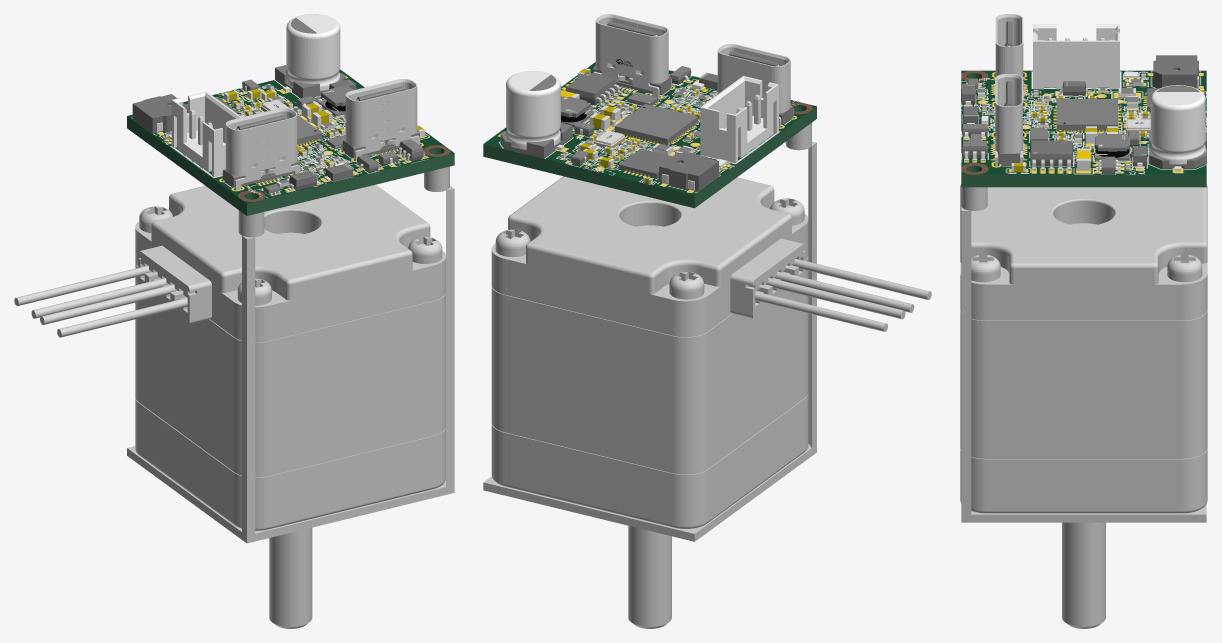
Rendered from development-assembly.glb.
3 views of the same model, side by side, from view 1: azimuth 30°, elevation 25°; view 2: azimuth 150°, elevation 25°; view 3: azimuth 270°, elevation 25° (orthographic). The views are drawn at different scales.
Parts seen in each view (by area): view 1: OEM_11HS12_0674S, FRONT_CARRIER_PROPOSAL, Box0, J_DATA, J_PD, C_BULK, J_MOTOR, BZ1, L_BUCK; view 2: OEM_11HS12_0674S, Box0, FRONT_CARRIER_PROPOSAL, J_MOTOR, J_PD, C_BULK, J_DATA, U_MCU, BZ1, U_PD, U_DRV, L_BUCK; view 3: OEM_11HS12_0674S, Box0, FRONT_CARRIER_PROPOSAL, J_MOTOR, C_BULK, J_PD, U_MCU, J_DATA, BZ1, U_PD, L_BUCK, U_ESD (+2 smaller).
Boxes of the visible parts, box(x1,y1,x2,y2) form: OEM_11HS12_0674S: box(14, 184, 445, 628); FRONT_CARRIER_PROPOSAL: box(127, 166, 454, 543); Box0: box(127, 69, 454, 215); J_DATA: box(222, 108, 300, 190); J_PD: box(342, 79, 420, 161); C_BULK: box(275, 14, 345, 97); J_MOTOR: box(171, 91, 241, 177); BZ1: box(132, 94, 187, 133); L_BUCK: box(318, 86, 353, 117); OEM_11HS12_0674S: box(491, 176, 931, 628); Box0: box(483, 62, 816, 208); FRONT_CARRIER_PROPOSAL: box(483, 123, 816, 541); J_MOTOR: box(700, 76, 778, 163); J_PD: box(593, 14, 671, 97); C_BULK: box(500, 71, 572, 158); J_DATA: box(717, 44, 793, 127); U_MCU: box(614, 104, 697, 145); BZ1: box(659, 152, 718, 191); U_PD: box(563, 72, 622, 107); U_DRV: box(618, 148, 671, 178); L_BUCK: box(561, 96, 593, 128); OEM_11HS12_0674S: box(960, 184, 1207, 628); Box0: box(961, 70, 1206, 187); FRONT_CARRIER_PROPOSAL: box(961, 187, 1206, 522); J_MOTOR: box(1033, 24, 1119, 89); C_BULK: box(1149, 85, 1206, 171); J_PD: box(993, 74, 1025, 166); U_MCU: box(1056, 99, 1118, 131); J_DATA: box(993, 14, 1025, 106); BZ1: box(1153, 55, 1198, 88); U_PD: box(1030, 140, 1073, 170); L_BUCK: box(1094, 134, 1129, 162); U_ESD: box(962, 140, 987, 161).
Bounding box in the file's own units: 48.2 × 70.55 × 28.2.
29 materials, 2 textured.
